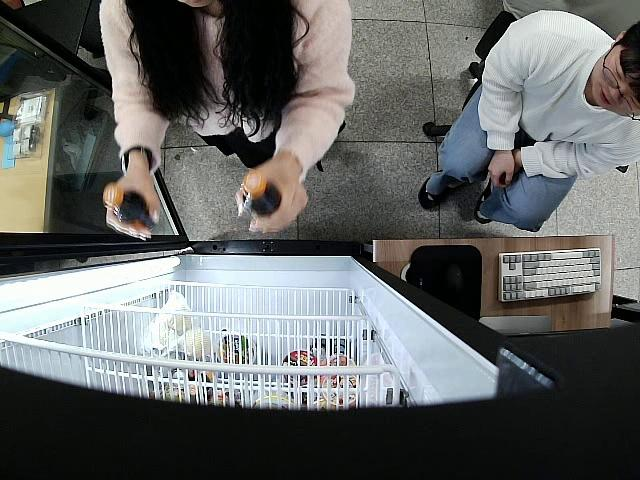00_hand: (233, 167, 309, 233), (106, 179, 163, 241)
17_vita500: (102, 186, 157, 231), (239, 170, 282, 219), (488, 154, 514, 192)
